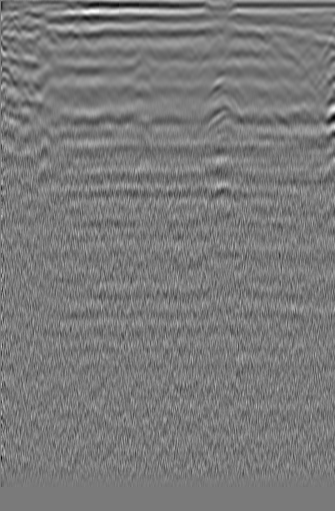가스: (198, 181, 240, 221)
상수: (28, 40, 61, 72)
오수: (281, 46, 327, 85)
우수: (141, 46, 183, 86)
